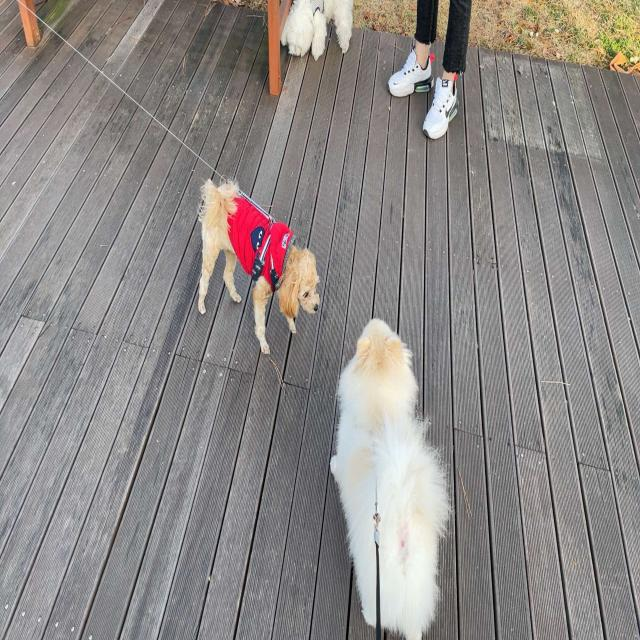Dog: (329, 316, 451, 640), (197, 177, 320, 356), (280, 0, 354, 63)
